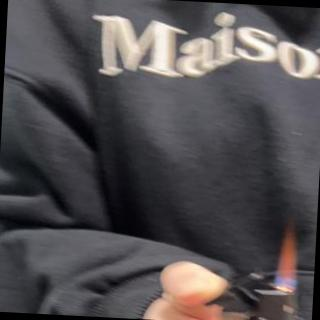fire: (274, 231, 300, 290)
